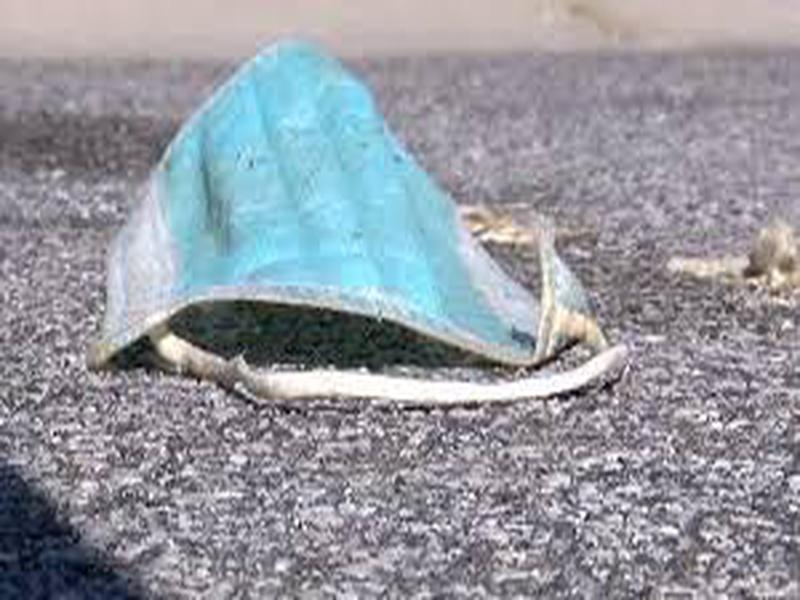mask: (76, 30, 643, 403)
